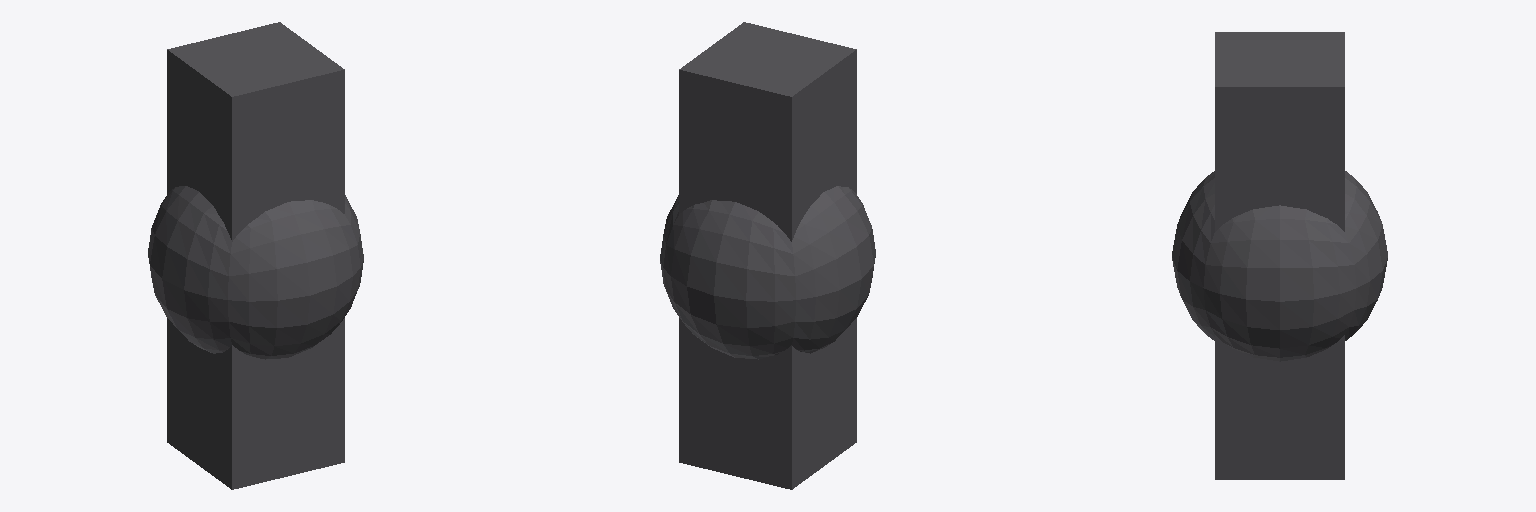
Rendered from Joint.obj.
3 renders of one model, left to right at view 1: azimuth 30°, elevation 25°; view 2: azimuth 150°, elevation 25°; view 3: azimuth 270°, elevation 25°, orthographic.
Parts seen in each view (by area): view 1: Base21, Ball1, Base1; view 2: Base21, Ball1, Base1; view 3: Ball1, Base21, Base1.
Boxes of the visible parts, <box> form: Base21: <box>167,22,344,241</box>; Ball1: <box>148,186,363,359</box>; Base1: <box>167,318,344,489</box>; Base21: <box>679,22,856,241</box>; Ball1: <box>660,186,875,359</box>; Base1: <box>679,318,856,489</box>; Ball1: <box>1172,171,1387,361</box>; Base21: <box>1215,32,1344,231</box>; Base1: <box>1215,335,1344,479</box>.
Size of the model in its own units: 0.5 by 1 by 0.5.